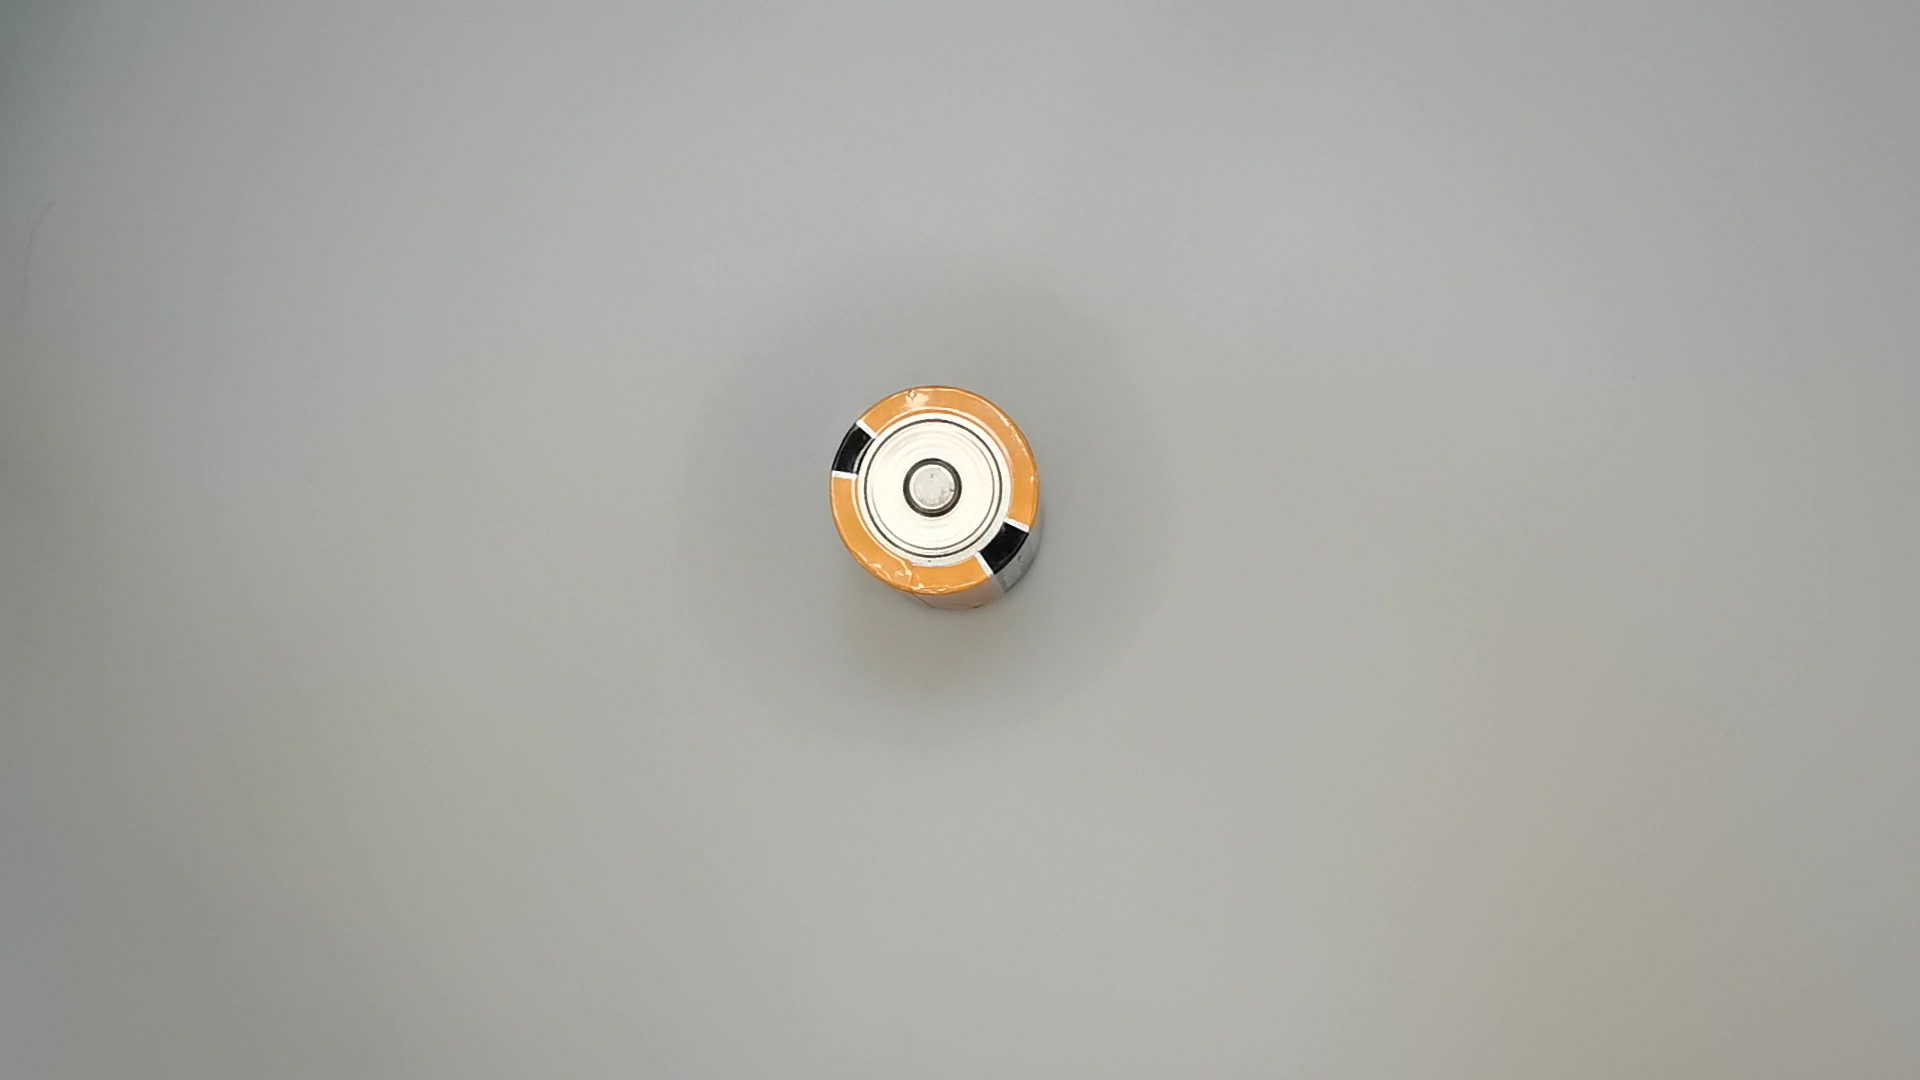battery: (822, 378, 1052, 622)
